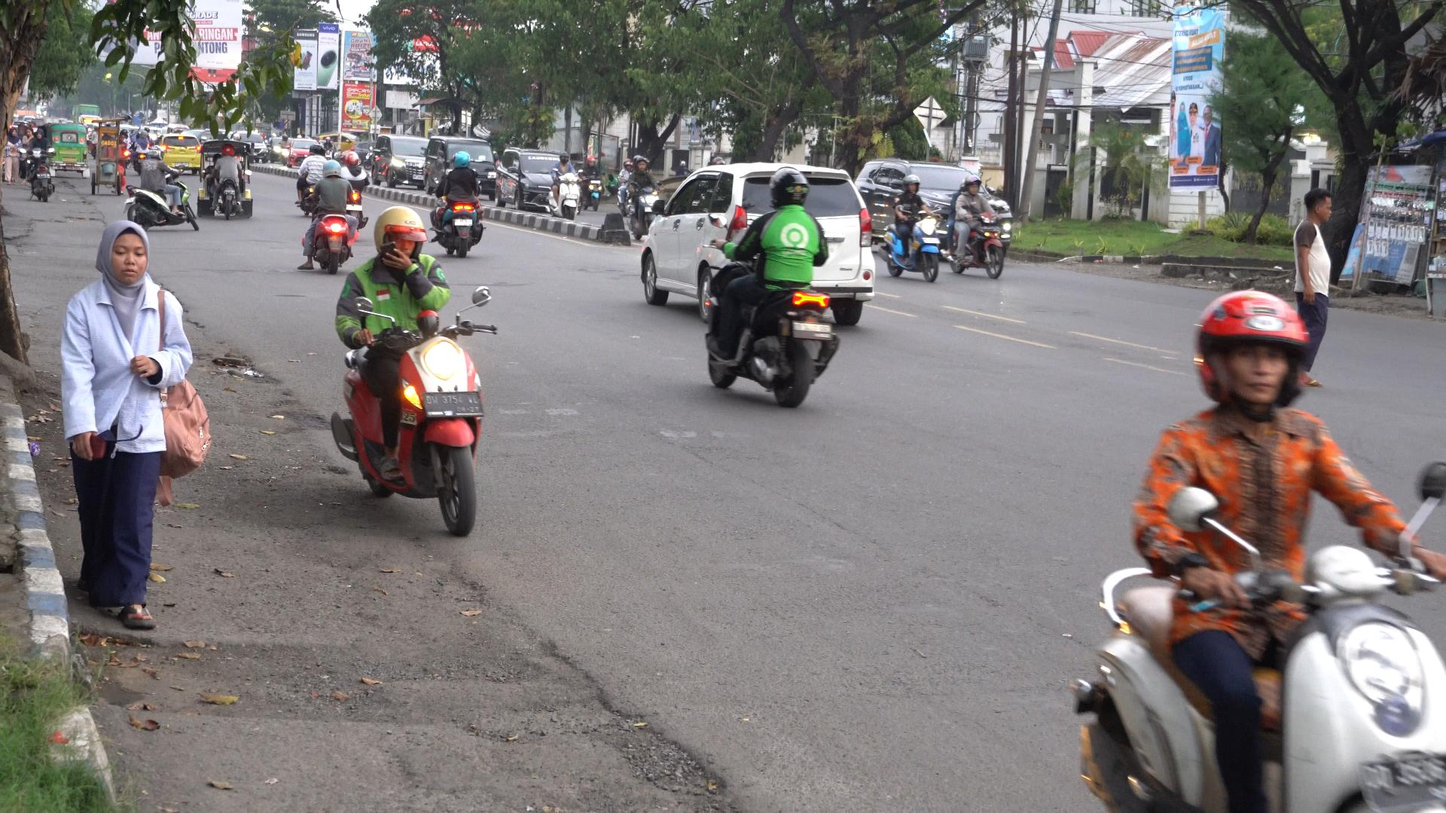number-plate: (426, 389, 486, 420)
